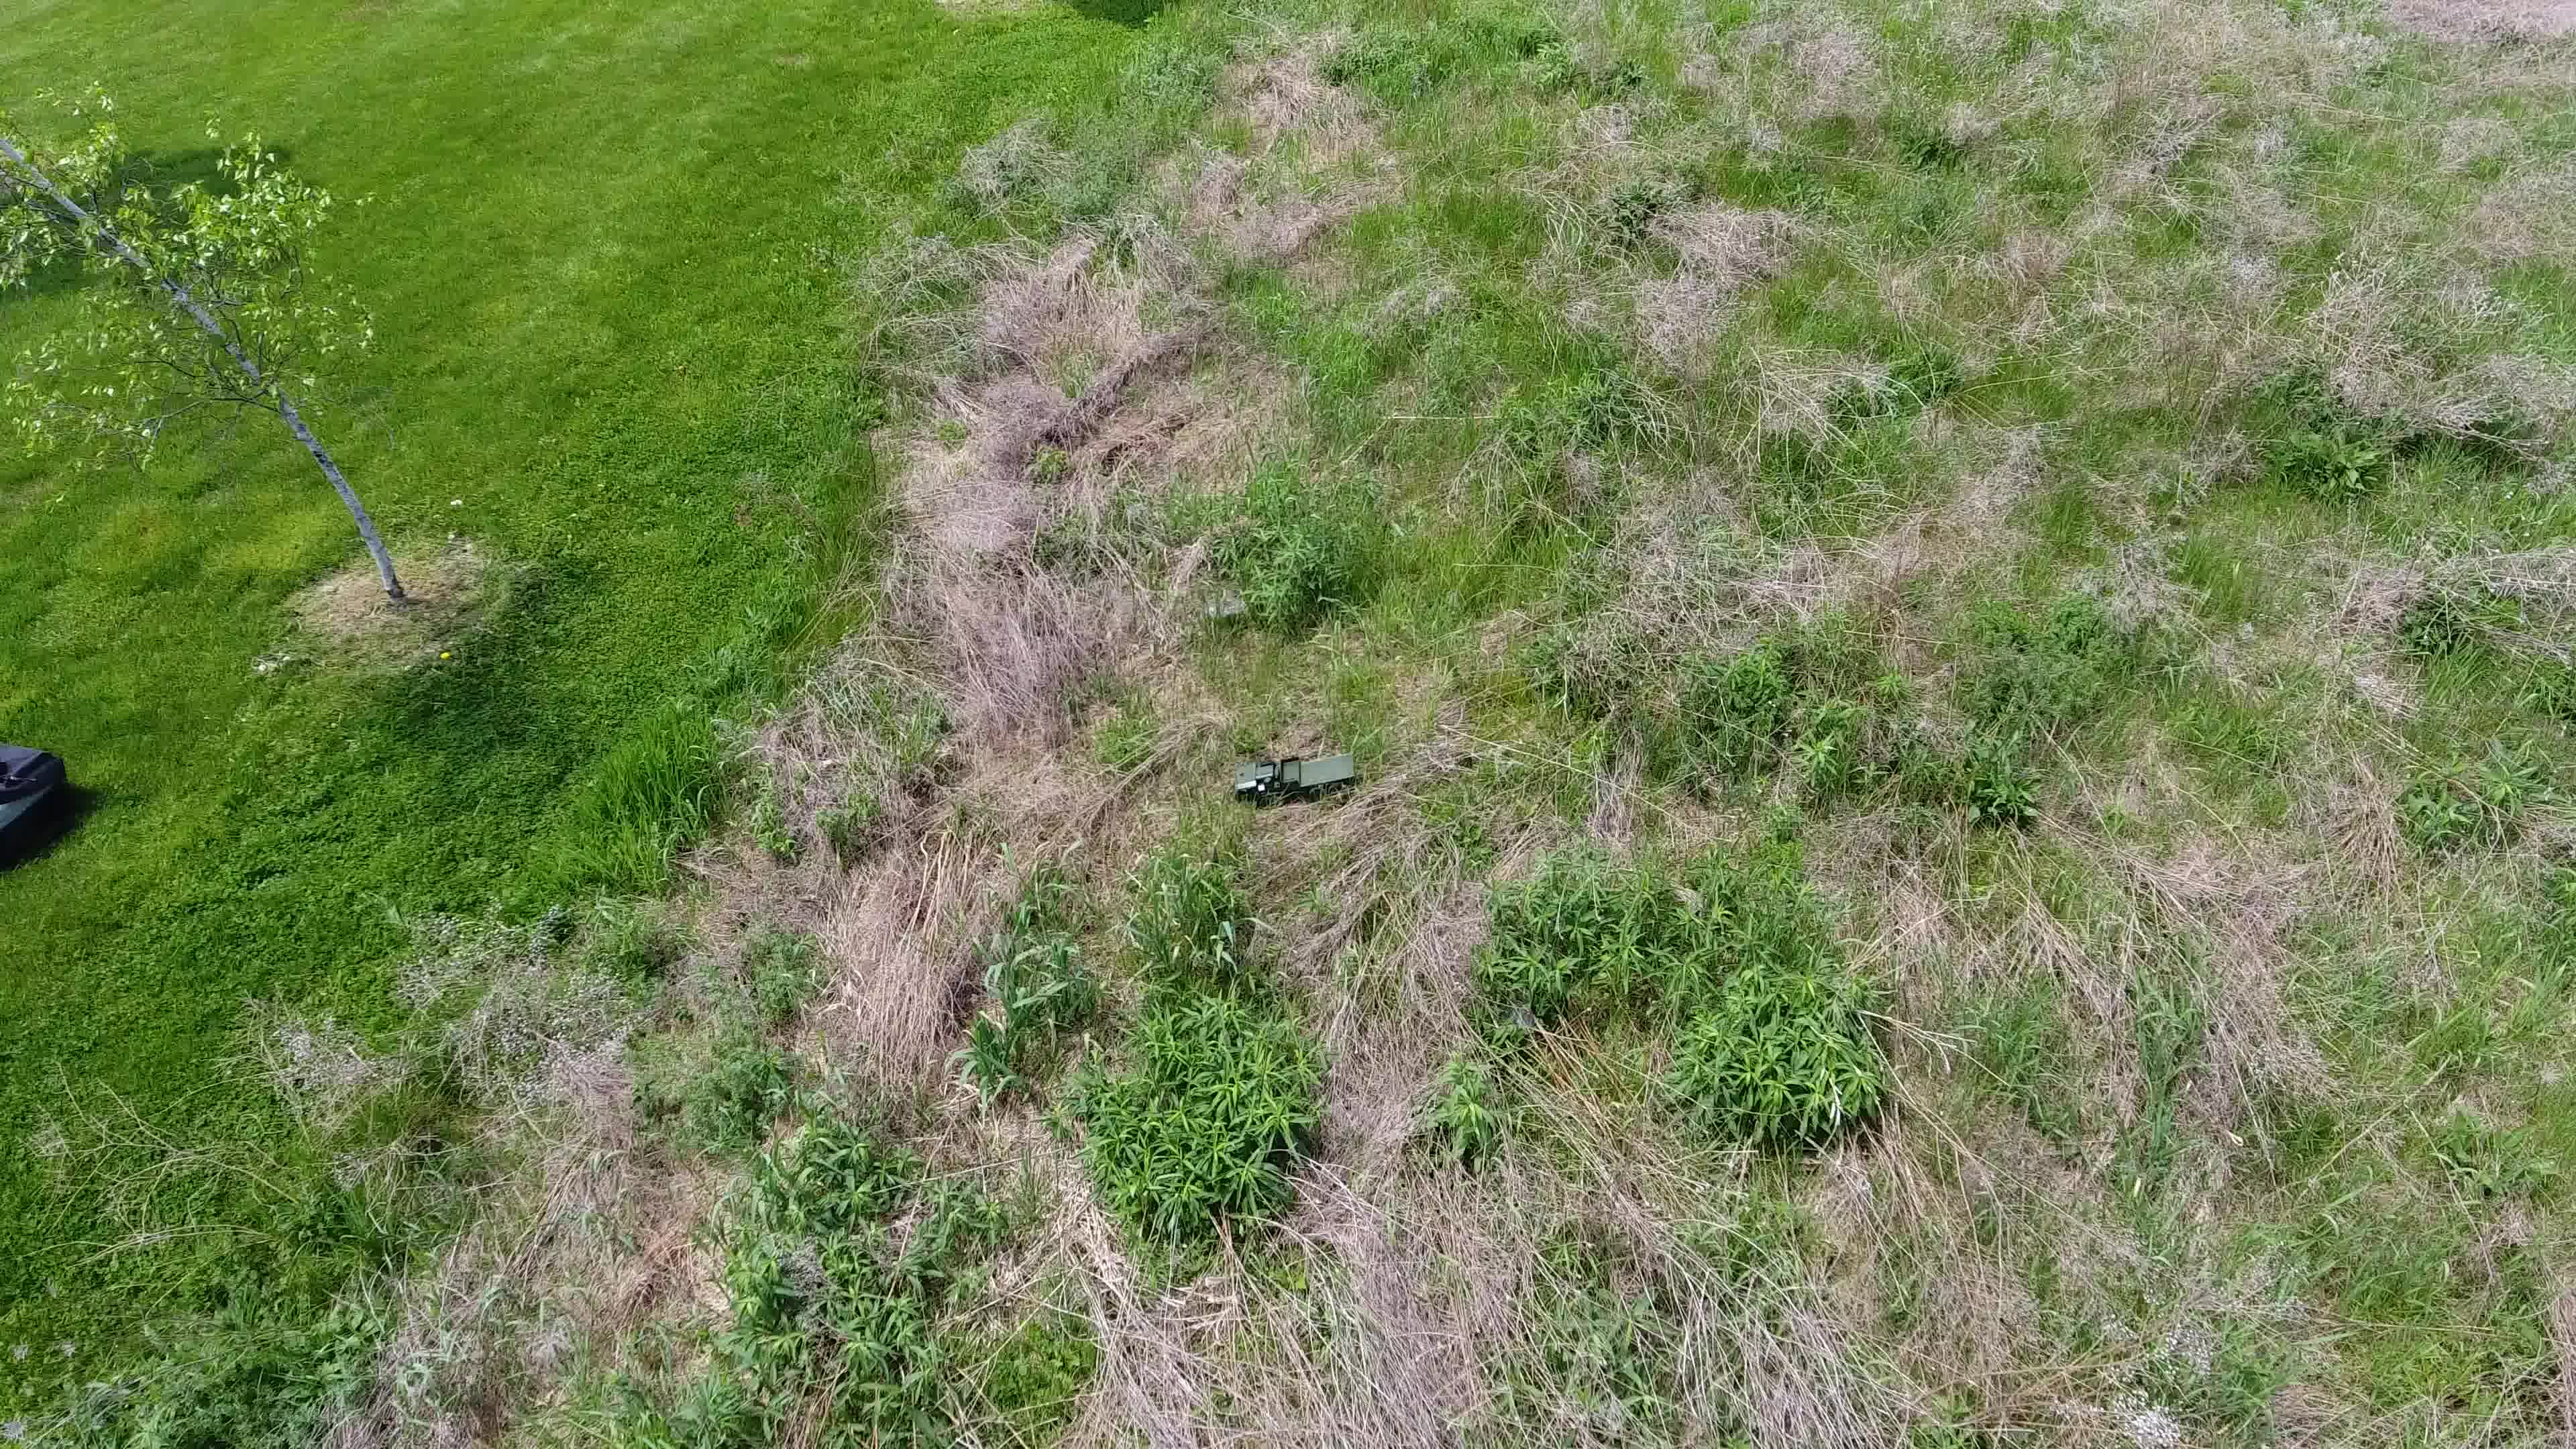transporter9: (1230, 748, 1361, 801)
